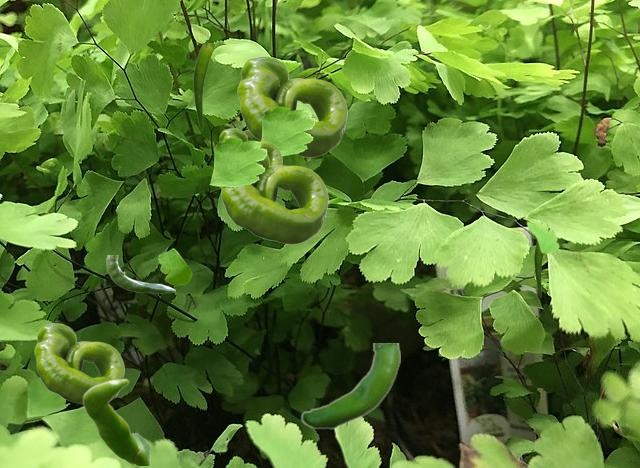green_chili: (237, 56, 346, 156), (220, 147, 327, 243), (300, 343, 399, 429), (34, 323, 123, 404), (82, 378, 149, 464), (106, 255, 174, 292), (218, 128, 281, 165), (193, 43, 212, 129), (534, 240, 544, 296)
